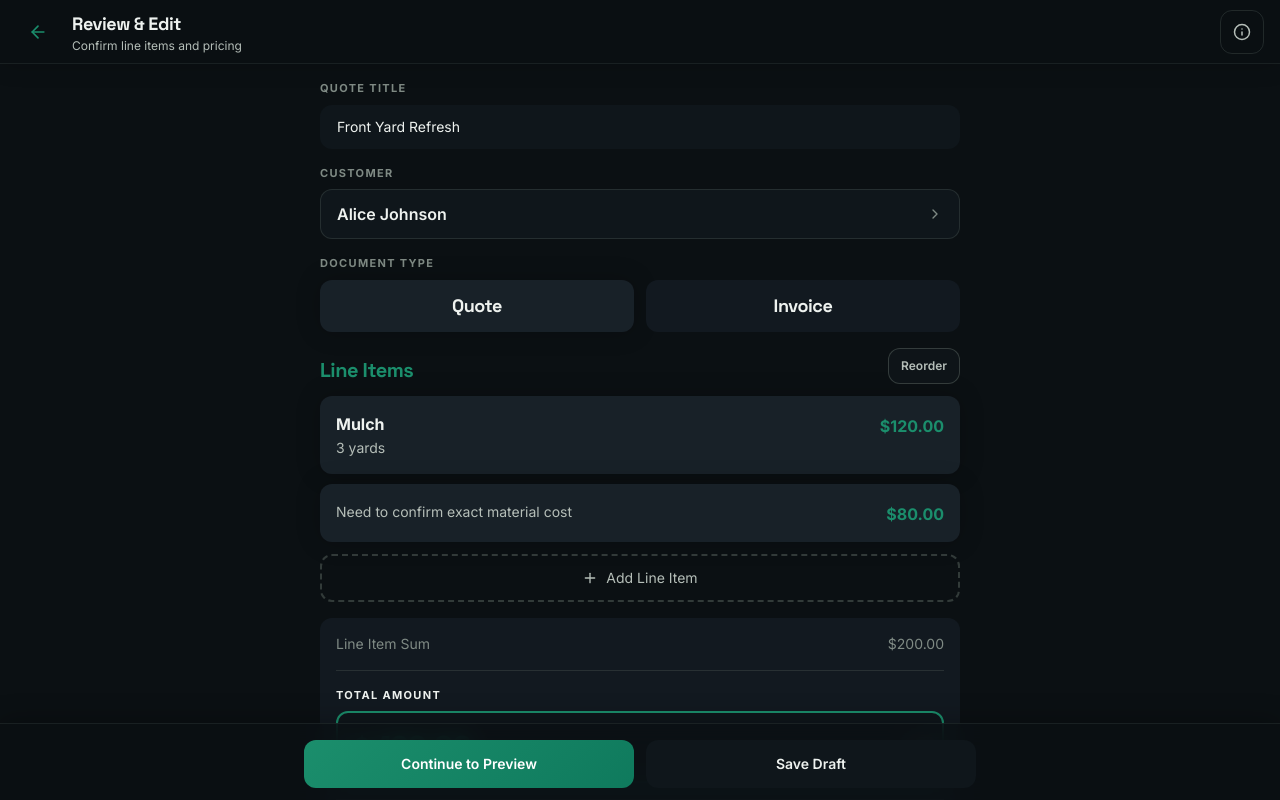
Test: DocumentEditScreen › keeps structural invalid line-item blocking on Continue
Click the button "Continue to Preview". click: [469, 764]
box: left=304, top=740, right=634, bottom=788
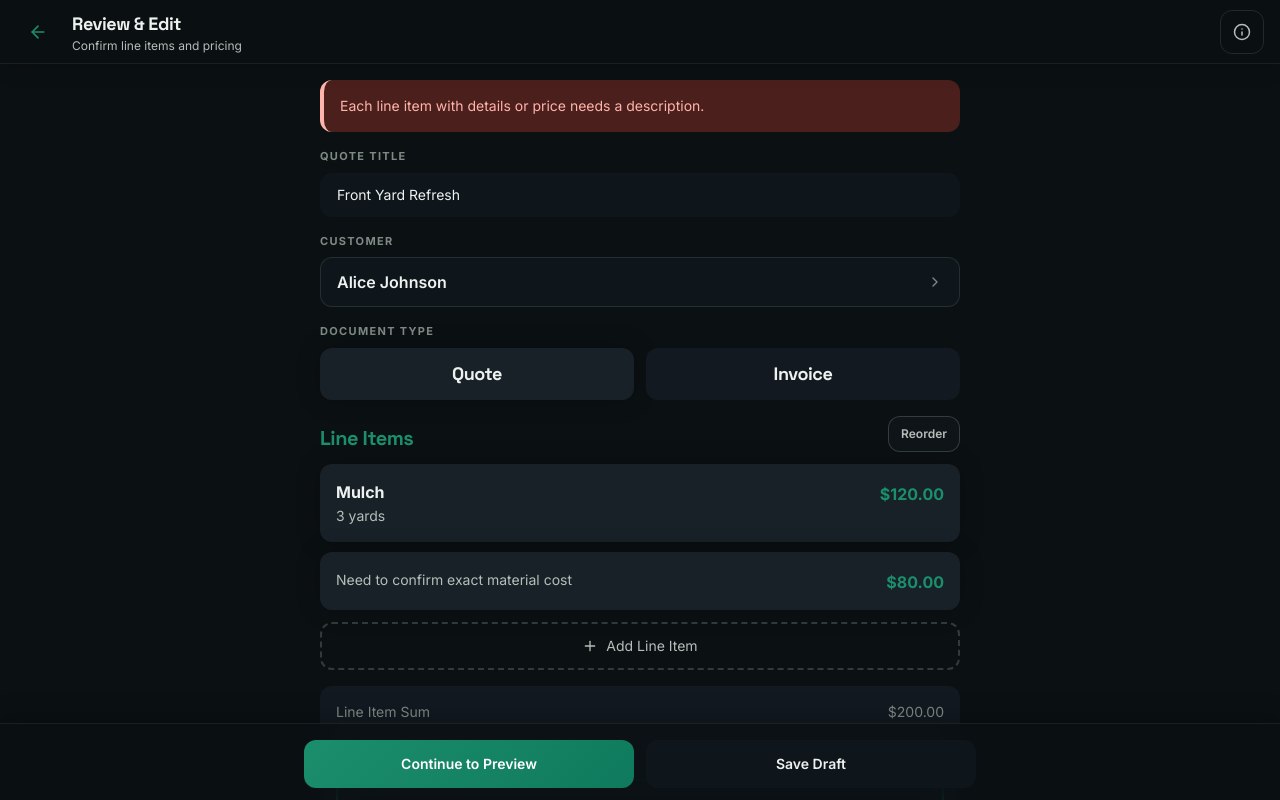
Expected: the text "Each line item with details or price needs a description." is shown, left=320, top=80, right=960, bottom=132
